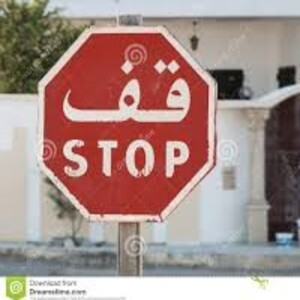stop: (37, 25, 215, 223)
